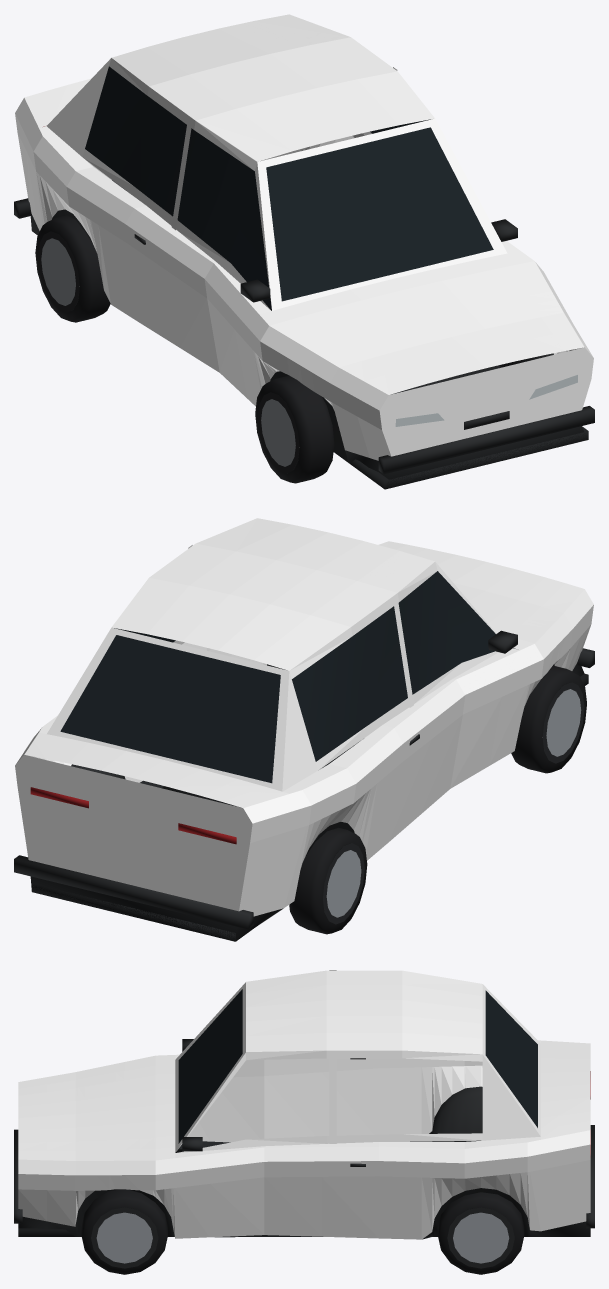
Rendered from dunmere_lentilha.glb.
3 renders of one model, top to bottom at view 1: azimuth 30°, elevation 25°; view 2: azimuth 150°, elevation 25°; view 3: azimuth 270°, elevation 25°, orthographic. The views are drawn at different scales.
Parts seen in each view (by area): view 1: Body_Paint, Body_Details, Mount_FrontLeft_Wheel_Details, Mount_RearLeft_Wheel_Details; view 2: Body_Paint, Body_Details, Mount_RearLeft_Wheel_Details, Mount_FrontLeft_Wheel_Details; view 3: Body_Paint, Body_Details, Mount_FrontRight_Wheel_Details, Mount_RearRight_Wheel_Details.
Part boxes in pixels (x1,y1,x2,y2): Body_Paint: [15, 14, 593, 460]; Body_Details: [14, 66, 594, 489]; Mount_FrontLeft_Wheel_Details: [255, 375, 334, 483]; Mount_RearLeft_Wheel_Details: [35, 215, 110, 322]; Body_Paint: [15, 518, 593, 916]; Body_Details: [14, 571, 594, 941]; Mount_RearLeft_Wheel_Details: [289, 827, 367, 934]; Mount_FrontLeft_Wheel_Details: [511, 665, 586, 773]; Body_Paint: [18, 970, 590, 1239]; Body_Details: [14, 989, 594, 1239]; Mount_FrontRight_Wheel_Details: [81, 1189, 167, 1274]; Mount_RearRight_Wheel_Details: [437, 1192, 524, 1274].
Size of the model in its own units: 1.72 by 1.49 by 3.68.
Materials: 2 (1 with a texture image).
